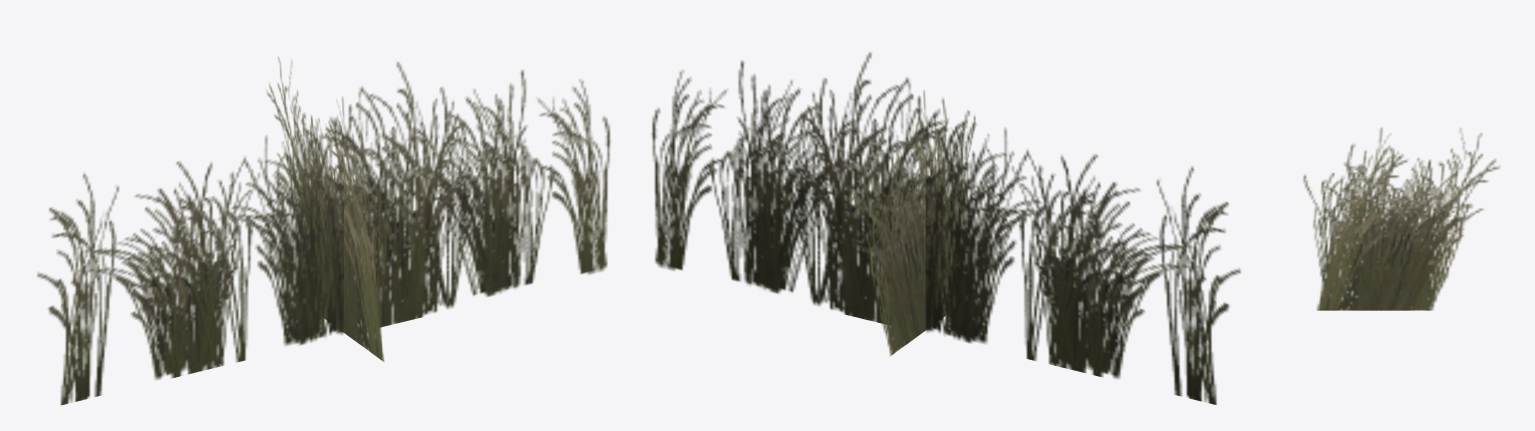
Rendered from forest_bush_01.glb.
3 views of the same model, side by side, from view 1: azimuth 30°, elevation 25°; view 2: azimuth 150°, elevation 25°; view 3: azimuth 270°, elevation 25° (orthographic). The views are drawn at different scales.
Parts seen in each view (by area): view 1: Background_Tree_Atlas.008_Background_Tree_Atlas_0; view 2: Background_Tree_Atlas.008_Background_Tree_Atlas_0; view 3: Background_Tree_Atlas.008_Background_Tree_Atlas_0.
Part boxes in pixels (bbox=[...]): Background_Tree_Atlas.008_Background_Tree_Atlas_0: bbox=[37, 57, 610, 405]; Background_Tree_Atlas.008_Background_Tree_Atlas_0: bbox=[652, 52, 1240, 404]; Background_Tree_Atlas.008_Background_Tree_Atlas_0: bbox=[1303, 127, 1499, 310].
Size of the model in its own units: 2.84 by 1.2 by 1.19.
1 material, 1 textured.
